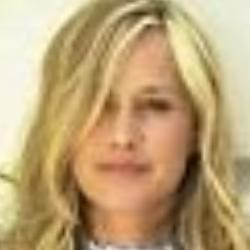face: (7, 1, 241, 234)
